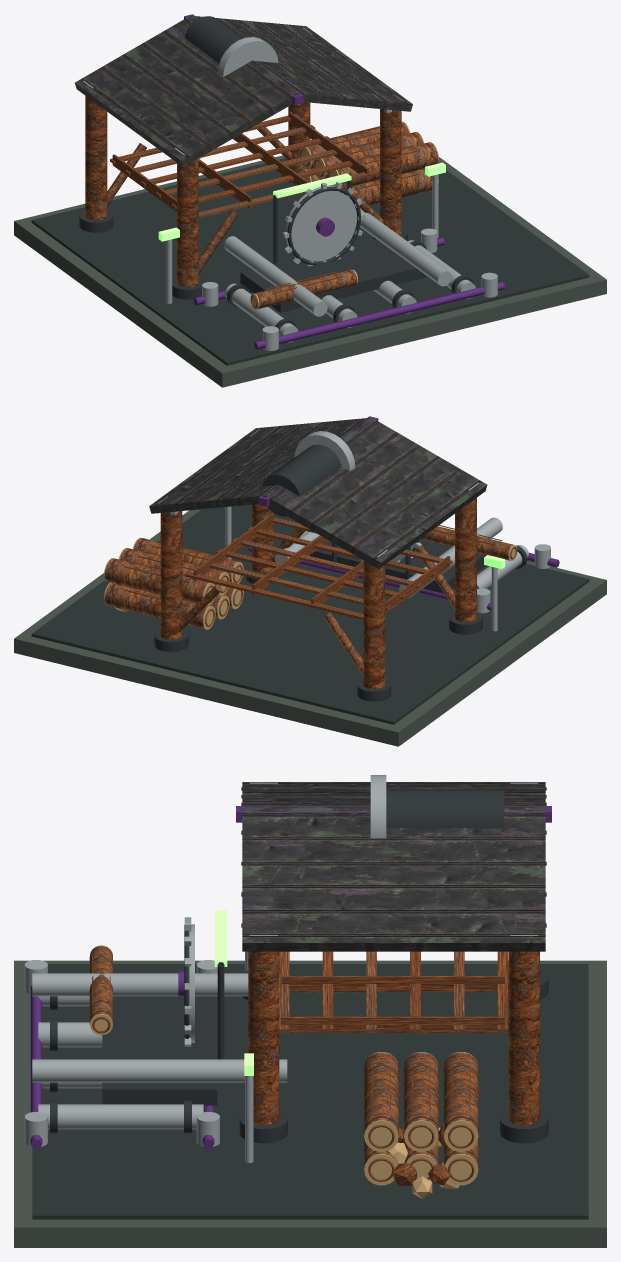
The model's file is timberline_v3_l01.glb.
3 renders of one model, top to bottom at view 1: azimuth 30°, elevation 25°; view 2: azimuth 150°, elevation 25°; view 3: azimuth 270°, elevation 25°, orthographic. The views are drawn at different scales.
Parts seen in each view (by area): view 1: timberline_v3_l01, stone_yard_base, saw_carriage, circular_saw_blade, saw_safety_light; view 2: timberline_v3_l01, stone_yard_base, saw_carriage; view 3: timberline_v3_l01, stone_yard_base, saw_carriage, saw_safety_light, roof_spine.
Part boxes in pixels (box(x1,y1,x2,y2)): timberline_v3_l01: box(31, 15, 589, 365); stone_yard_base: box(14, 155, 606, 387); saw_carriage: box(240, 239, 427, 312); circular_saw_blade: box(285, 185, 356, 261); saw_safety_light: box(273, 173, 351, 198); timberline_v3_l01: box(31, 417, 589, 724); stone_yard_base: box(14, 509, 606, 746); saw_carriage: box(309, 539, 486, 593); timberline_v3_l01: box(24, 775, 588, 1219); stone_yard_base: box(14, 960, 606, 1247); saw_carriage: box(102, 996, 217, 1105); saw_safety_light: box(214, 910, 227, 966); roof_spine: box(236, 806, 551, 822).
Size of the model in its own units: 6.5 by 3.5 by 6.1.
10 materials, 3 textured.
